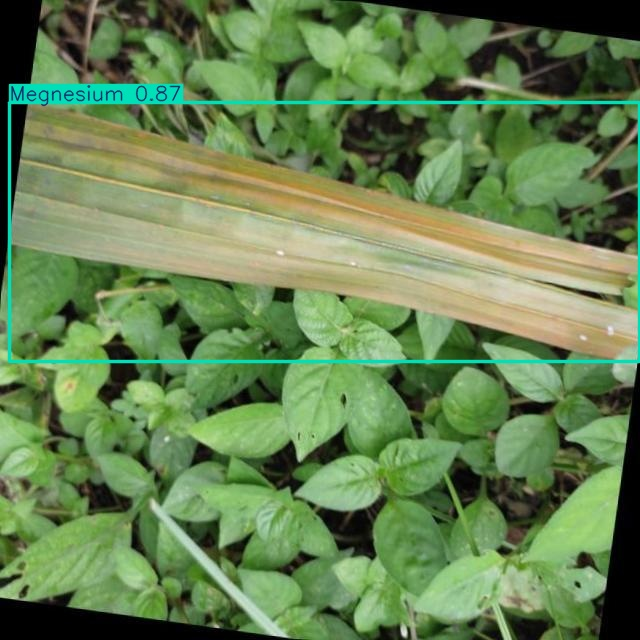Megnesium: (9, 103, 640, 361)
